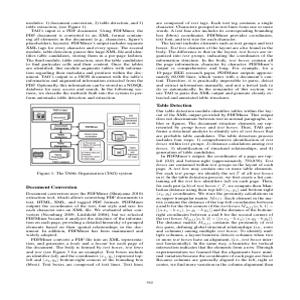diagram: (25, 102, 144, 169)
text: (153, 19, 279, 272), (22, 183, 147, 272), (22, 19, 146, 101)
